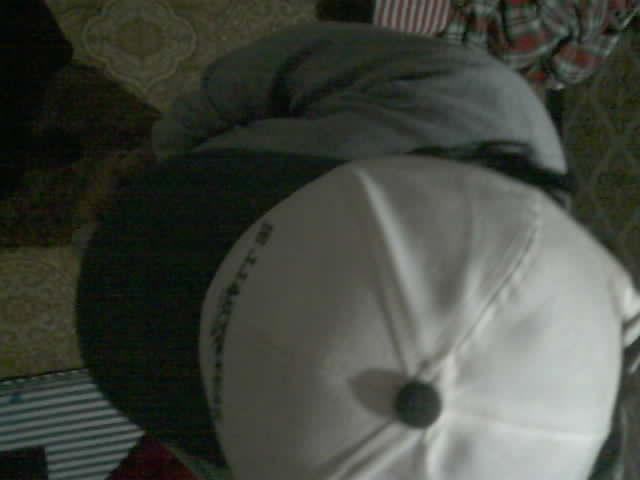cap: (75, 146, 639, 479)
